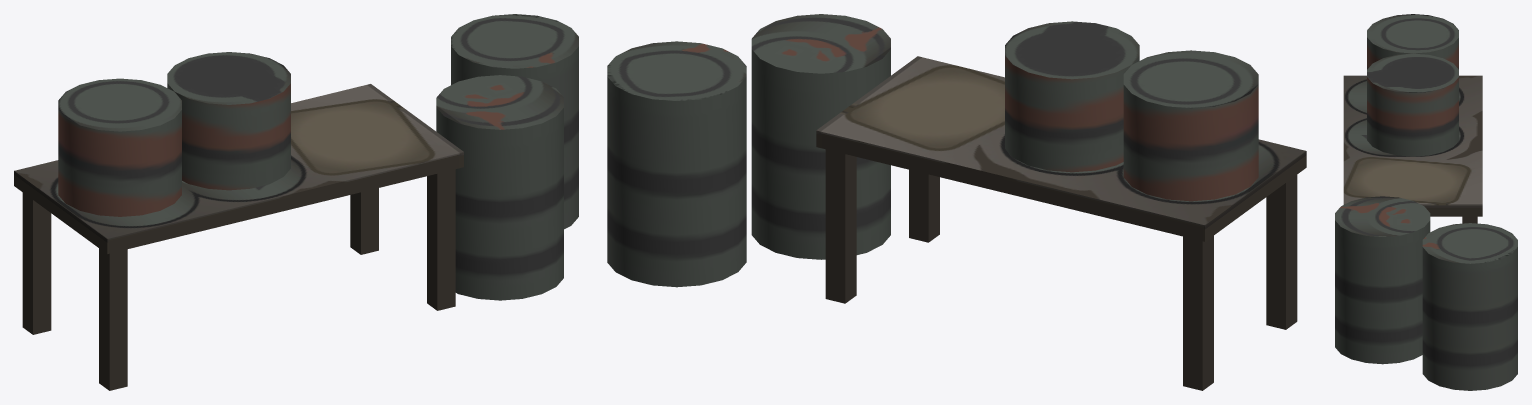
File: Building_AncientTableBrewery.obj
The picture shows the model from 3 angles, left to right: view 1: azimuth 30°, elevation 25°; view 2: azimuth 150°, elevation 25°; view 3: azimuth 270°, elevation 25°; orthographic projection. The views are drawn at different scales.
Parts seen in each view (by area): view 1: Body; view 2: Body; view 3: Body.
Part boxes in pixels (x1,y1,x2,y2): Body: (14, 14, 578, 390); Body: (607, 14, 1306, 390); Body: (1335, 14, 1517, 390).
Size of the model in its own units: 3.03 by 1.27 by 1.17.
Materials: 1 (1 with a texture image).
